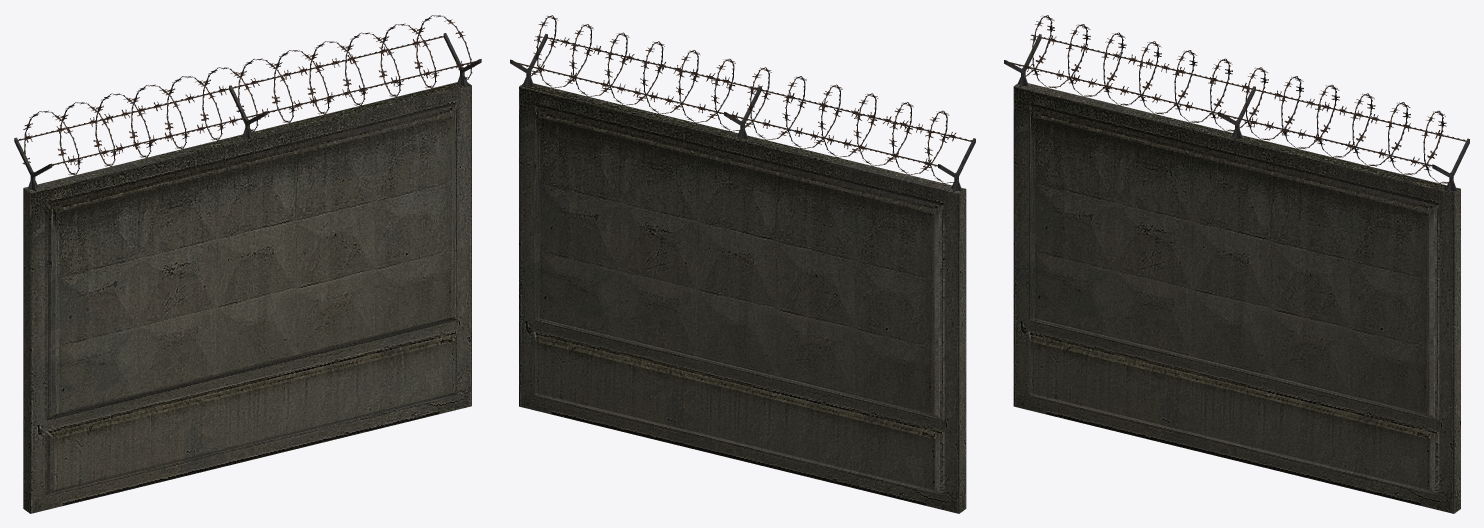
The model's file is concrete_fence_hr_2.glb.
The picture shows the model from 3 angles, left to right: view 1: azimuth 30°, elevation 25°; view 2: azimuth 150°, elevation 25°; view 3: azimuth 330°, elevation 25°; orthographic projection.
Visible parts, largest first — view 1: concrete_fence_hr_2; view 2: concrete_fence_hr_2; view 3: concrete_fence_hr_2.
Part boxes in pixels (x1,y1,x2,y2): concrete_fence_hr_2: (14,15,481,513); concrete_fence_hr_2: (510,15,975,513); concrete_fence_hr_2: (1004,15,1469,513).
Size of the model in its own units: 3.6 by 3.06 by 0.5551.
3 materials, 3 textured.
